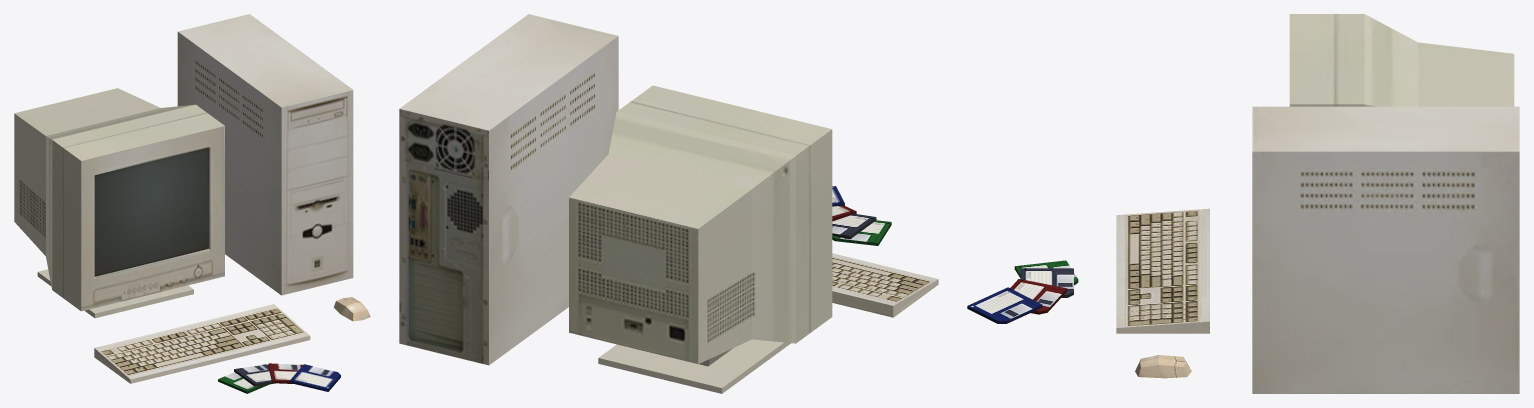
The model's file is psx_retro_computer.glb.
3 renders of one model, left to right at view 1: azimuth 30°, elevation 25°; view 2: azimuth 150°, elevation 25°; view 3: azimuth 270°, elevation 25°, orthographic. The views are drawn at different scales.
Parts seen in each view (by area): view 1: RetroMonitor, RetroComputer, RetroKeyboard, FloppyDisk_Black; view 2: RetroMonitor, RetroComputer, RetroKeyboard, FloppyDisk_Black; view 3: RetroComputer, RetroMonitor, RetroKeyboard, FloppyDisk_Black.
Boxes of the visible parts, <box> form: RetroMonitor: <box>14,88,224,318</box>; RetroComputer: <box>177,14,353,295</box>; RetroKeyboard: <box>94,297,370,383</box>; FloppyDisk_Black: <box>218,363,340,393</box>; RetroMonitor: <box>569,85,832,393</box>; RetroComputer: <box>399,14,618,365</box>; RetroKeyboard: <box>832,253,938,317</box>; FloppyDisk_Black: <box>832,186,891,245</box>; RetroComputer: <box>1252,106,1519,393</box>; RetroMonitor: <box>1289,14,1514,106</box>; RetroKeyboard: <box>1116,208,1209,378</box>; FloppyDisk_Black: <box>967,260,1078,323</box>.
Size of the model in its own units: 0.92 by 0.6002 by 1.24.
4 materials, 4 textured.
